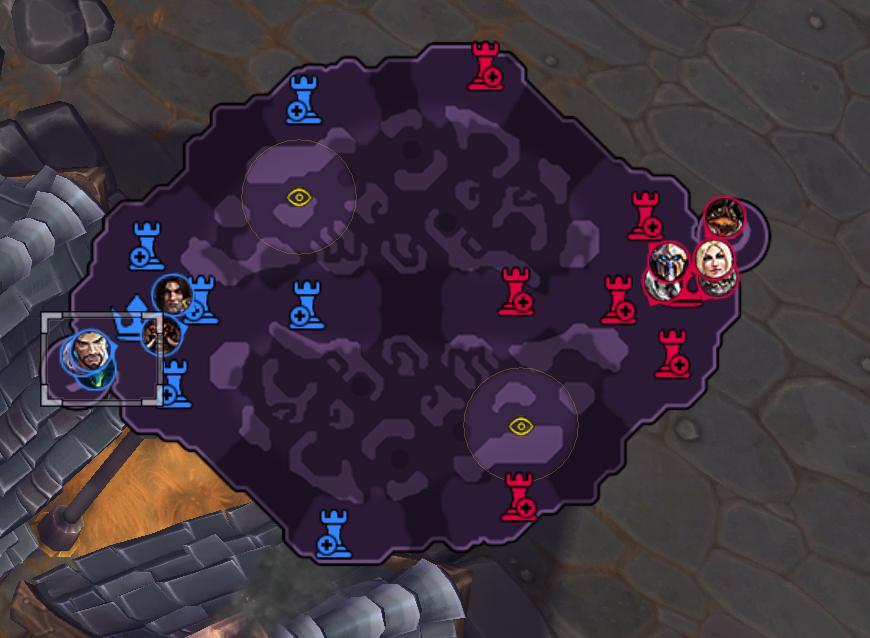blue nexus: (111, 293, 150, 342)
blue player: (69, 326, 121, 371), (71, 354, 122, 396), (139, 311, 184, 358), (152, 272, 194, 319), (59, 336, 104, 376)
blue tower: (176, 272, 220, 325), (287, 277, 325, 330), (128, 218, 166, 271), (314, 506, 352, 558), (285, 73, 322, 125)
red player: (702, 196, 745, 242), (648, 240, 689, 286), (693, 238, 734, 282)
red tower: (599, 272, 637, 325), (497, 264, 535, 317), (466, 40, 504, 92), (500, 470, 538, 521), (654, 327, 691, 379), (626, 189, 663, 241)
